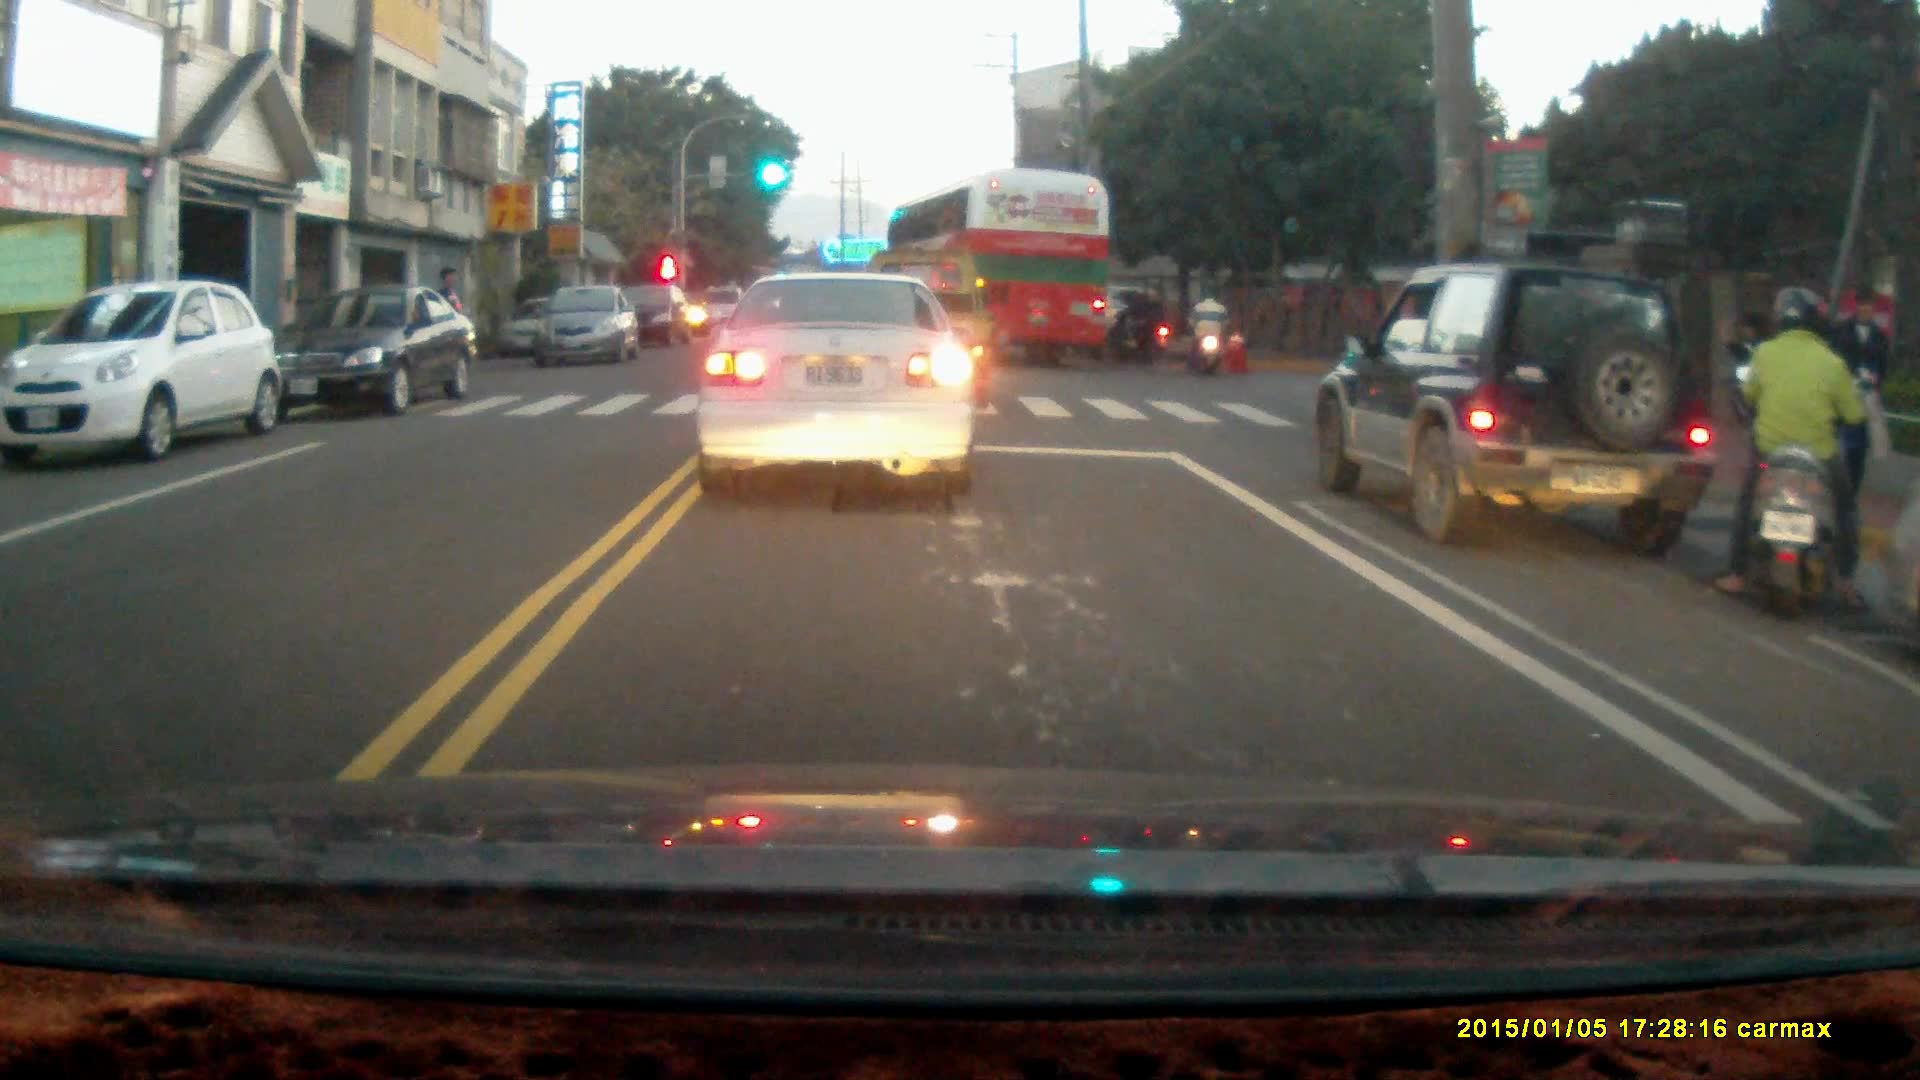pedestrian: (1828, 282, 1891, 517), (1721, 308, 1780, 427), (432, 266, 466, 377)
rider: (1710, 283, 1865, 618), (1100, 290, 1172, 369), (1187, 285, 1234, 376)
vehicle: (1315, 267, 1722, 553), (691, 269, 982, 502), (3, 281, 289, 463), (875, 171, 1116, 375), (265, 287, 478, 419), (527, 287, 639, 371), (600, 286, 691, 351)
